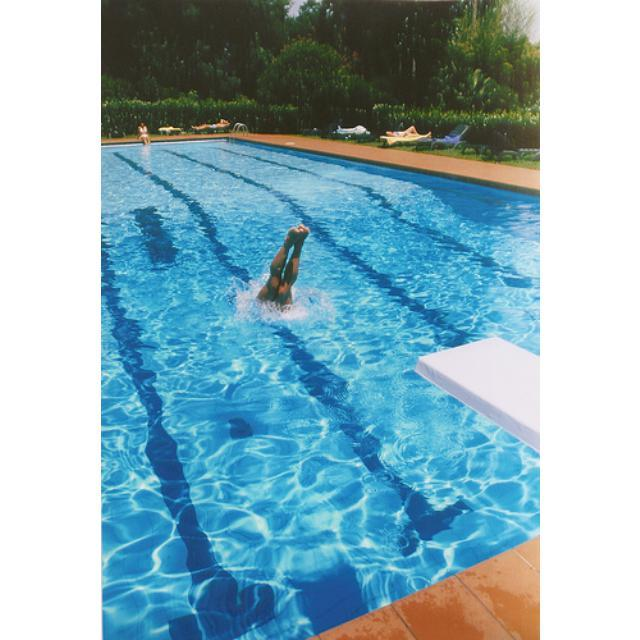human: (254, 209, 310, 310)
